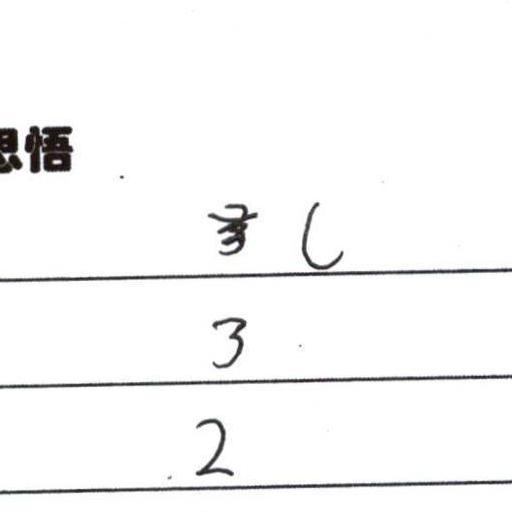ans: (295, 197, 346, 273), (192, 417, 236, 478), (208, 313, 248, 370)
